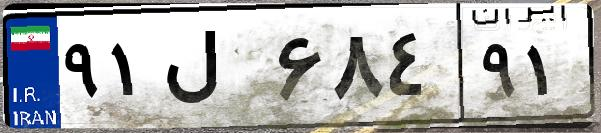1: (525, 38, 570, 115), (110, 28, 158, 98)
4: (385, 28, 445, 110)
6: (270, 28, 330, 110)
8: (330, 28, 385, 110)
9: (57, 26, 110, 100), (475, 38, 525, 113)
ل: (158, 20, 270, 120)
